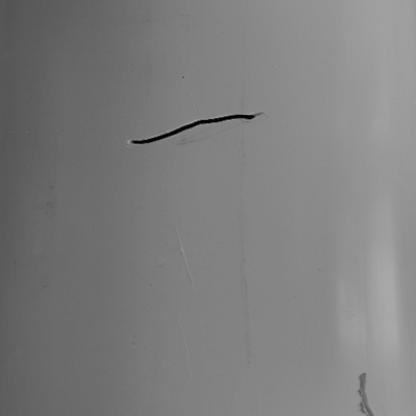fengxi: (127, 112, 263, 146)
sunshang: (357, 367, 379, 416)
